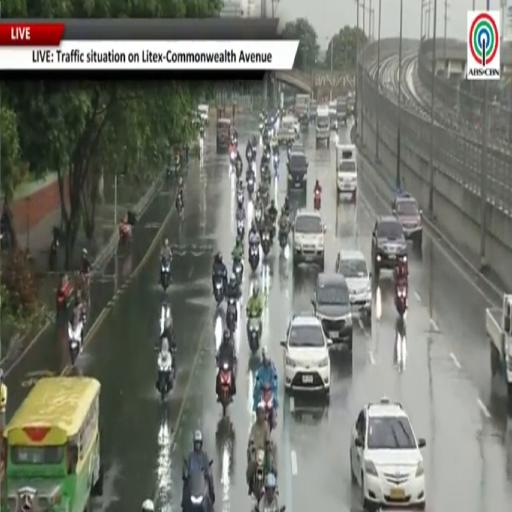car: (350, 397, 425, 510), (281, 315, 331, 395), (312, 272, 353, 353), (336, 250, 371, 323), (372, 216, 407, 279), (293, 210, 326, 270), (391, 195, 422, 248), (287, 151, 308, 190), (277, 116, 296, 145), (287, 142, 305, 161), (294, 118, 300, 137)
jeepney: (2, 377, 103, 511), (216, 118, 232, 153)
motorcycle: (183, 461, 213, 511), (157, 351, 174, 401), (252, 448, 265, 502), (219, 362, 232, 415), (260, 383, 274, 431), (68, 322, 83, 364), (57, 281, 73, 315), (247, 318, 260, 354), (48, 238, 60, 272), (226, 298, 237, 334), (396, 282, 407, 311), (214, 276, 224, 305), (161, 259, 170, 291), (119, 223, 132, 245), (249, 244, 259, 271), (233, 259, 243, 284), (261, 230, 270, 255), (176, 189, 184, 215), (261, 166, 271, 186), (246, 175, 255, 196), (279, 230, 288, 249), (314, 189, 321, 211), (237, 218, 244, 238), (237, 189, 244, 207), (230, 150, 236, 171), (255, 207, 262, 225), (274, 154, 279, 178), (264, 146, 271, 162), (246, 148, 253, 162), (236, 163, 242, 179), (287, 140, 292, 158), (251, 147, 257, 161), (232, 136, 238, 148), (259, 122, 264, 134), (274, 506, 285, 511)
truck: (486, 295, 511, 401), (336, 144, 357, 200), (315, 105, 330, 147), (277, 116, 296, 145), (295, 94, 310, 125), (337, 99, 348, 125), (329, 101, 338, 131), (198, 104, 209, 125)
